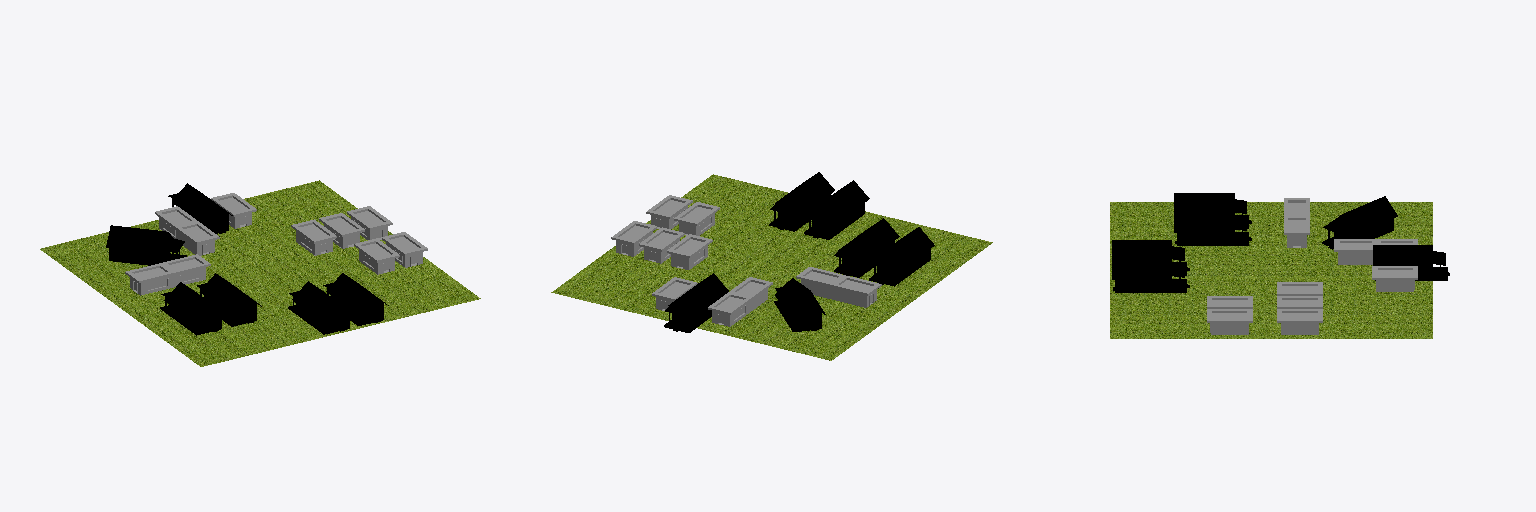
3 views of the same model, side by side, from view 1: azimuth 30°, elevation 25°; view 2: azimuth 150°, elevation 25°; view 3: azimuth 270°, elevation 25° (orthographic).
Visible parts, largest first — view 1: Plane, farmhouse.004_polySurface73.004, farmhouse.003_polySurface73.003, farmhouse_polySurface73, farmhouse.002_polySurface73.002, farmhouse.001_polySurface73.001, farmhouse.005_polySurface73.005, Warehouse_Cube.006_Warehouse_Cube.007, Warehouse_Cube.002, Warehouse_Cube.004, Warehouse_Cube.009_Warehouse_Cube.010, Warehouse_Cube.003_Warehouse_Cube.006 (+5 smaller); view 2: Plane, farmhouse.003_polySurface73.003, farmhouse_polySurface73, farmhouse.005_polySurface73.005, farmhouse.002_polySurface73.002, farmhouse.001_polySurface73.001, farmhouse.004_polySurface73.004, Warehouse_Cube.006_Warehouse_Cube.007, Warehouse_Cube.002, Warehouse_Cube.004, Warehouse_Cube.003_Warehouse_Cube.006, Warehouse_Cube (+5 smaller); view 3: Plane, farmhouse.002_polySurface73.002, farmhouse.001_polySurface73.001, farmhouse.004_polySurface73.004, farmhouse.005_polySurface73.005, farmhouse.003_polySurface73.003, farmhouse_polySurface73, Warehouse_Cube.007_Warehouse_Cube.008, Warehouse_Cube.005, Warehouse_Cube, Warehouse_Cube.009_Warehouse_Cube.010, Warehouse_Cube.003_Warehouse_Cube.006 (+3 smaller).
Boxes of the visible parts, x1,y1,x2,y2 form: Plane: [40, 180, 480, 366]; farmhouse.004_polySurface73.004: [106, 225, 186, 265]; farmhouse.003_polySurface73.003: [160, 282, 226, 335]; farmhouse_polySurface73: [288, 281, 353, 334]; farmhouse.002_polySurface73.002: [197, 273, 261, 326]; farmhouse.001_polySurface73.001: [323, 273, 388, 325]; farmhouse.005_polySurface73.005: [168, 183, 232, 233]; Warehouse_Cube.006_Warehouse_Cube.007: [125, 262, 177, 295]; Warehouse_Cube.002: [291, 219, 336, 255]; Warehouse_Cube.004: [354, 238, 399, 274]; Warehouse_Cube.009_Warehouse_Cube.010: [174, 220, 219, 255]; Warehouse_Cube.003_Warehouse_Cube.006: [160, 254, 210, 286]; Plane: [551, 174, 992, 360]; farmhouse.003_polySurface73.003: [869, 227, 934, 286]; farmhouse_polySurface73: [804, 180, 869, 239]; farmhouse.005_polySurface73.005: [664, 273, 728, 332]; farmhouse.002_polySurface73.002: [834, 218, 899, 277]; farmhouse.001_polySurface73.001: [769, 172, 834, 231]; farmhouse.004_polySurface73.004: [774, 278, 825, 331]; Warehouse_Cube.006_Warehouse_Cube.007: [828, 275, 881, 307]; Warehouse_Cube.002: [667, 234, 712, 269]; Warehouse_Cube.004: [674, 202, 719, 235]; Warehouse_Cube.003_Warehouse_Cube.006: [796, 267, 848, 299]; Warehouse_Cube: [611, 221, 656, 256]; Plane: [1110, 202, 1432, 338]; farmhouse.002_polySurface73.002: [1174, 210, 1251, 245]; farmhouse.001_polySurface73.001: [1112, 257, 1189, 292]; farmhouse.004_polySurface73.004: [1322, 196, 1397, 249]; farmhouse.005_polySurface73.005: [1373, 245, 1449, 280]; farmhouse.003_polySurface73.003: [1174, 193, 1251, 228]; farmhouse_polySurface73: [1112, 240, 1189, 275]; Warehouse_Cube.007_Warehouse_Cube.008: [1372, 266, 1417, 291]; Warehouse_Cube.005: [1207, 309, 1252, 334]; Warehouse_Cube: [1277, 309, 1322, 334]; Warehouse_Cube.009_Warehouse_Cube.010: [1334, 239, 1380, 264]; Warehouse_Cube.003_Warehouse_Cube.006: [1284, 214, 1309, 247].
Bounding box in the file's own units: 72.87 × 7.39 × 76.7.
Materials: 7 (1 with a texture image).